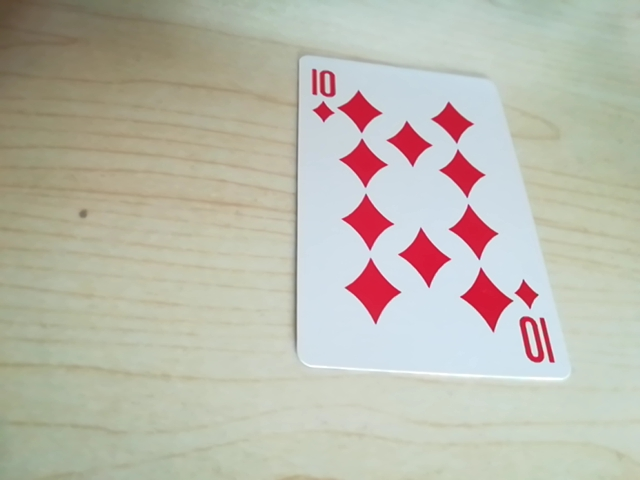fk 10: (301, 58, 348, 128), (516, 288, 554, 374)
